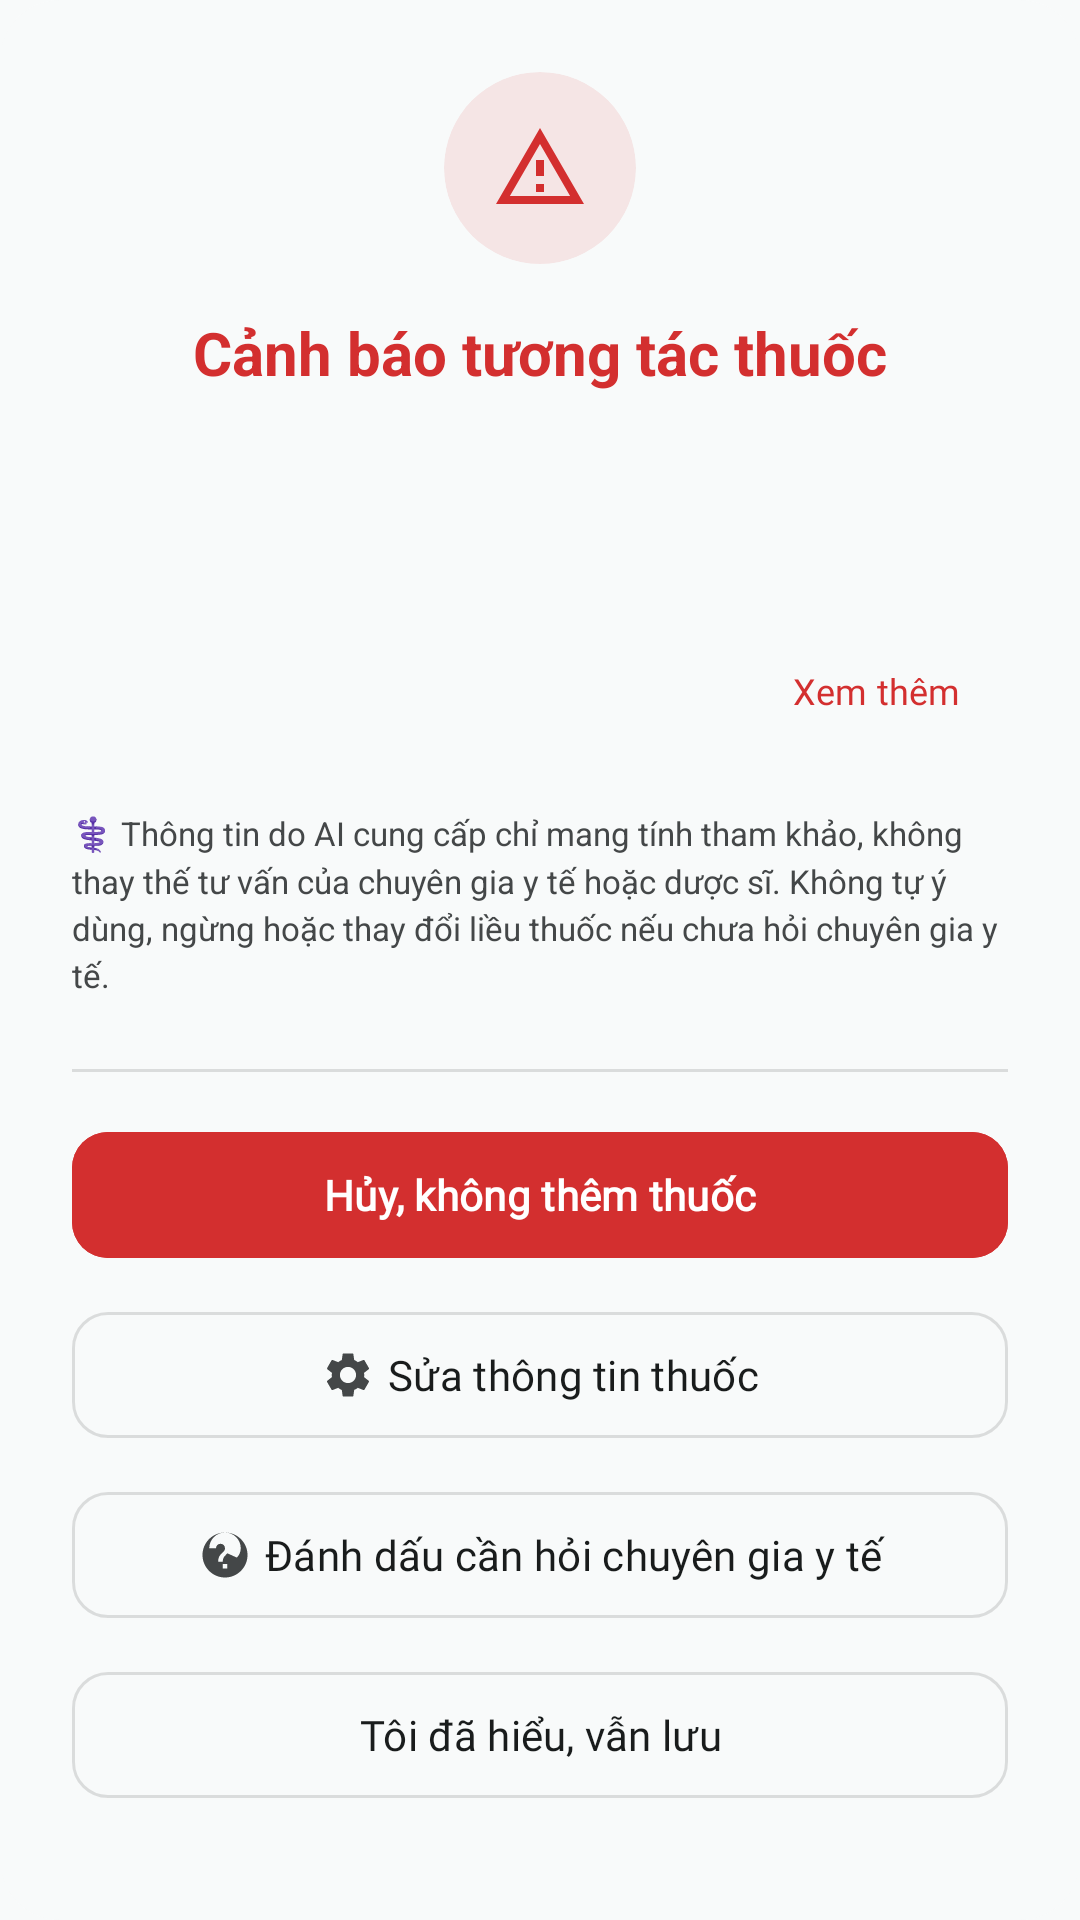

Locate icon controls on the screen. Image size 1080px×1920px, boxes as (x1, y1, x2, y2).
Warning Icon: (496, 128, 584, 204)
